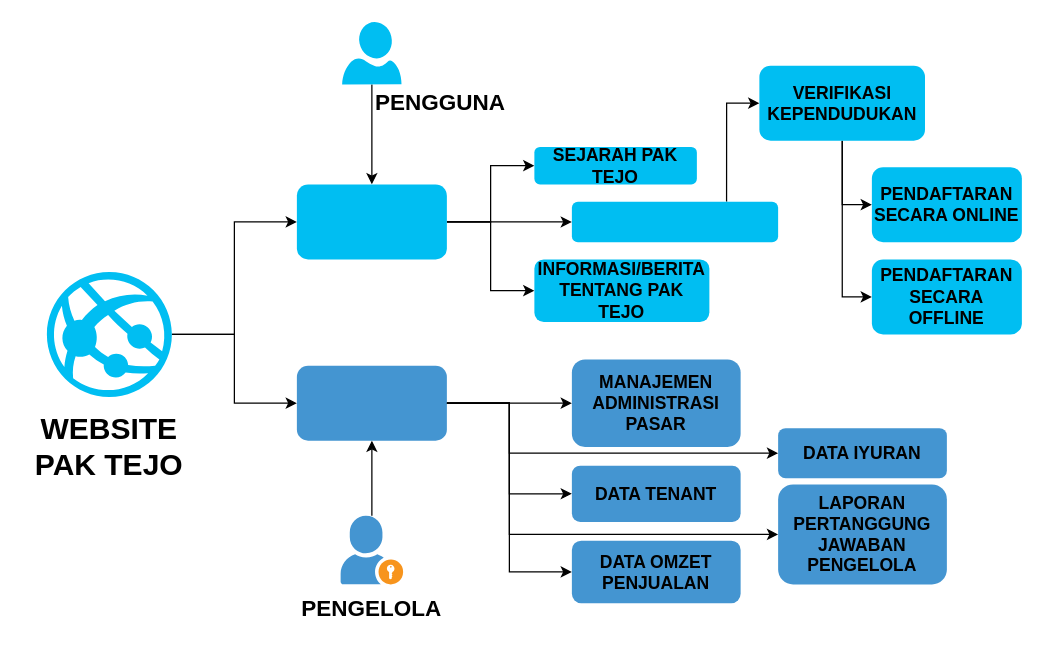
This 1043x663 diagram has some shape labels left out. The shapes that lost their labels are listed below. From the top down, each one's box as (x1, y1, x2, y2) in pixels, then its label:
(296, 184, 446, 259): FRONT-END
(571, 201, 778, 242): PENDAFTARAN TENANT
(296, 365, 446, 440): BACK-END
